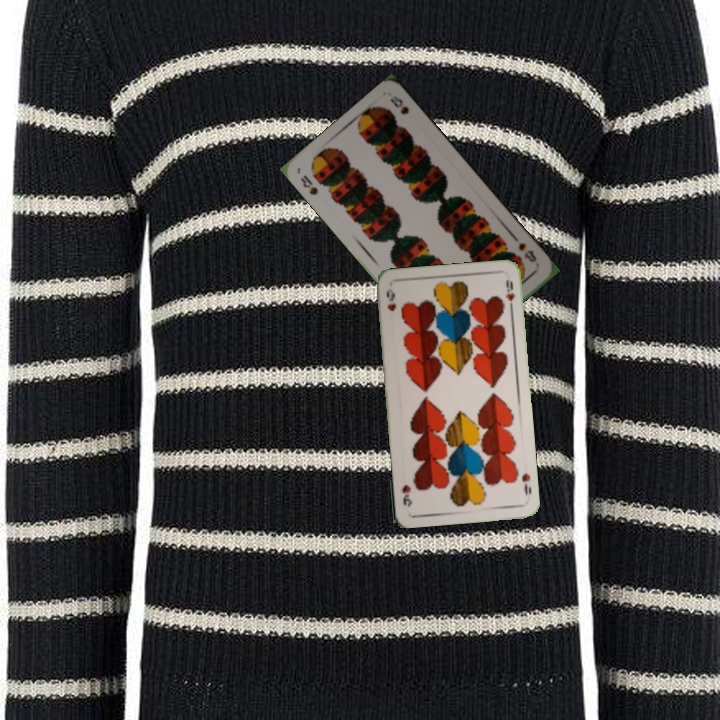H9: (517, 469, 534, 498), (382, 285, 398, 314)
S8: (514, 238, 539, 265), (296, 171, 321, 198)
